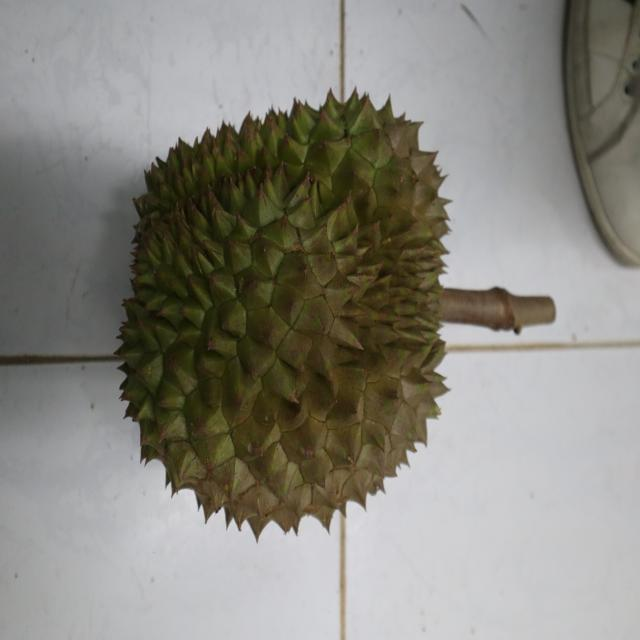mature: (116, 85, 456, 546)
